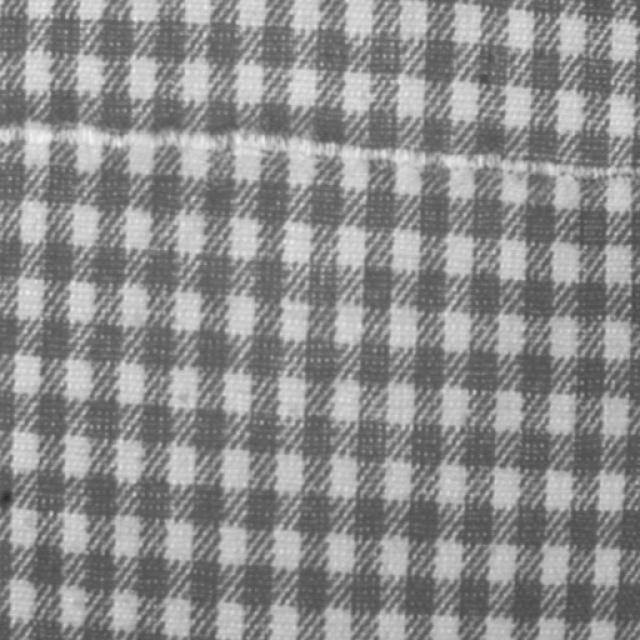Thread-Defect: (0, 119, 632, 180)
